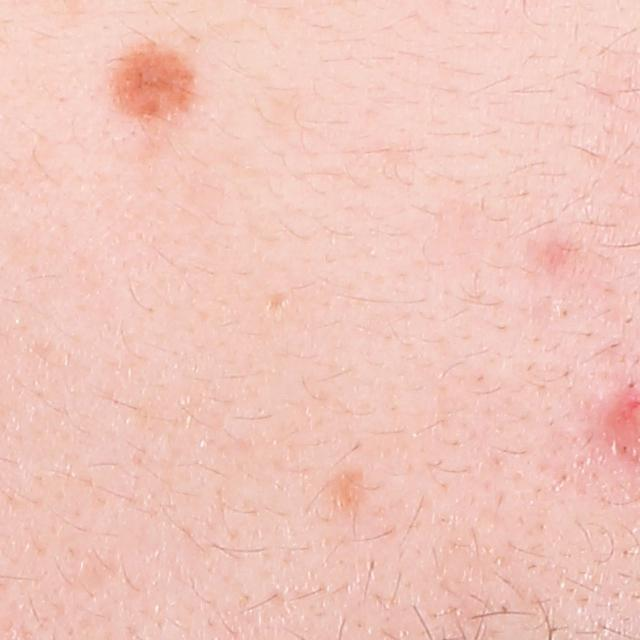nevus: (105, 24, 205, 121)
